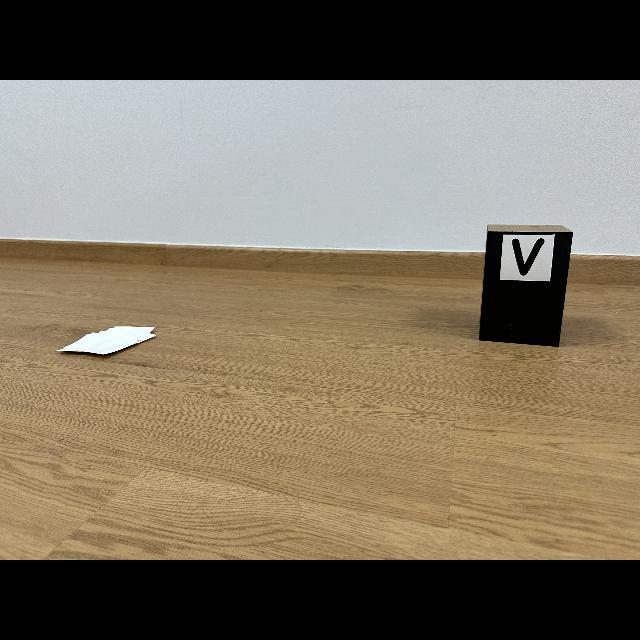V: (512, 239, 544, 275)
